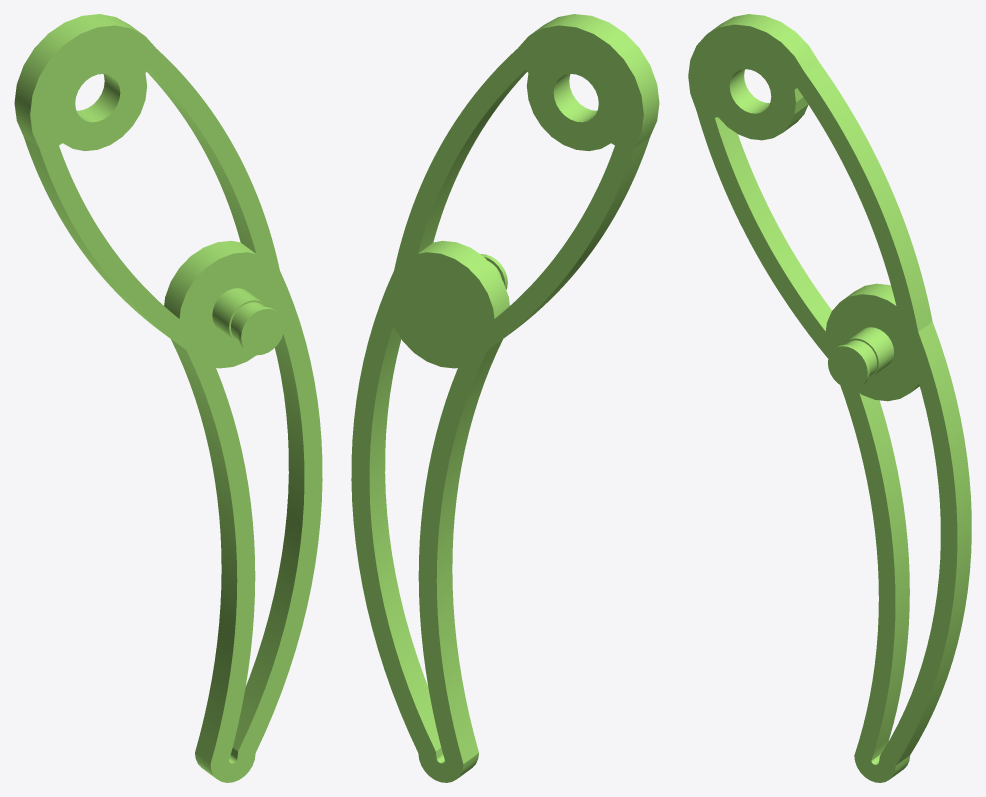
The model's file is RS_LegRight_v1.obj.
3 views of the same model, side by side, from view 1: azimuth 30°, elevation 25°; view 2: azimuth 150°, elevation 25°; view 3: azimuth 330°, elevation 25° (orthographic). The views are drawn at different scales.
Parts seen in each view (by area): view 1: Mesh1 Group2 Group1 Model, Mesh3 Group4 _____29_1 Group1 Model, Mesh2 Group3 _____29_1 Group1 Model; view 2: Mesh1 Group2 Group1 Model; view 3: Mesh1 Group2 Group1 Model, Mesh3 Group4 _____29_1 Group1 Model, Mesh2 Group3 _____29_1 Group1 Model.
Part boxes in pixels (x1,y1,x2,y2): Mesh1 Group2 Group1 Model: [14, 14, 322, 782]; Mesh3 Group4 _____29_1 Group1 Model: [238, 307, 284, 355]; Mesh2 Group3 _____29_1 Group1 Model: [212, 288, 267, 343]; Mesh1 Group2 Group1 Model: [351, 14, 659, 782]; Mesh1 Group2 Group1 Model: [688, 14, 971, 782]; Mesh3 Group4 _____29_1 Group1 Model: [828, 344, 869, 388]; Mesh2 Group3 _____29_1 Group1 Model: [843, 327, 893, 378].
Size of the model in its own units: 32.41 by 83.48 by 8.7.
